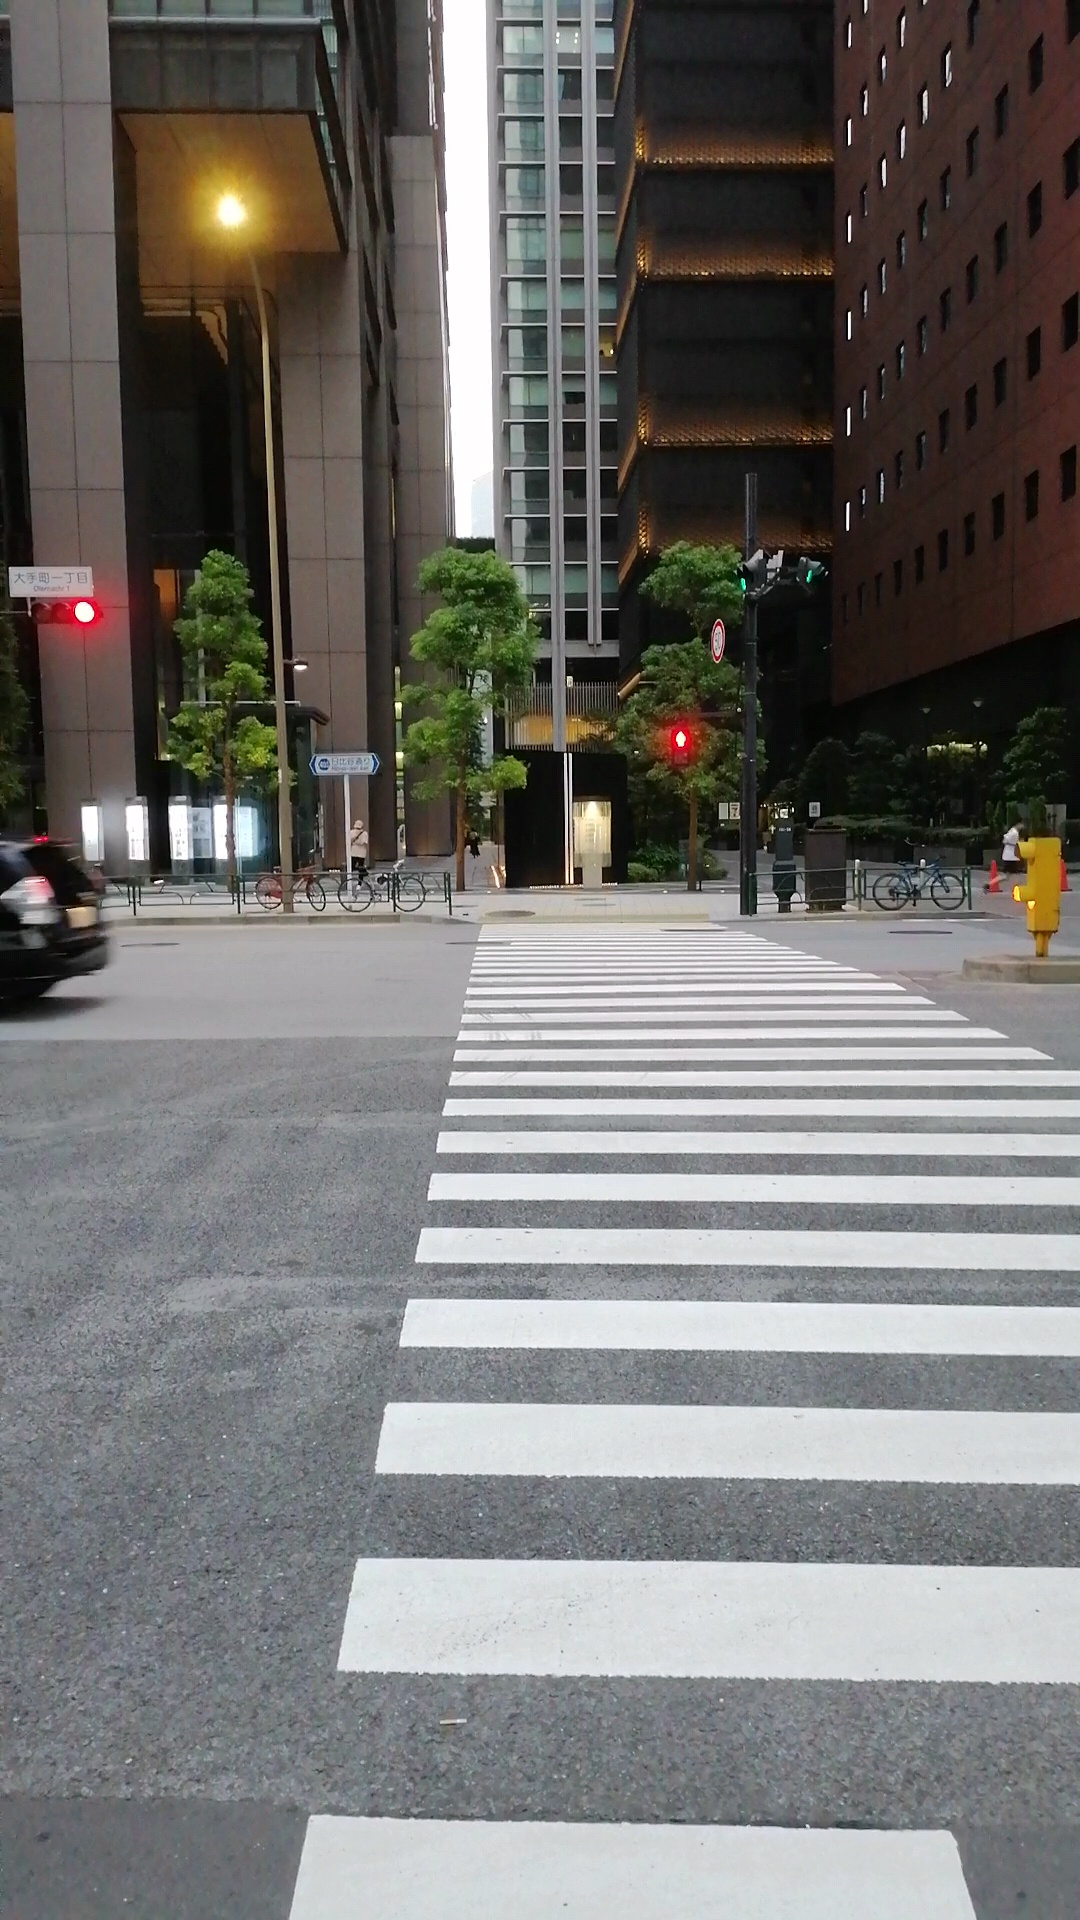red: (667, 723, 694, 769)
